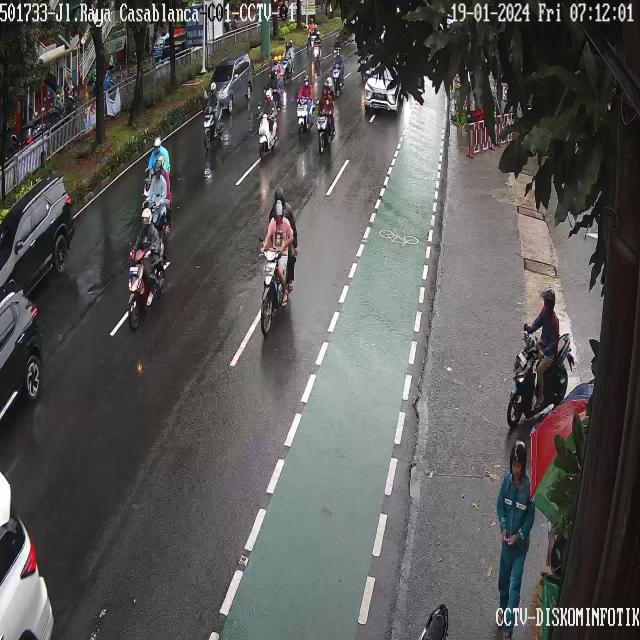Payung: (523, 373, 594, 515)
